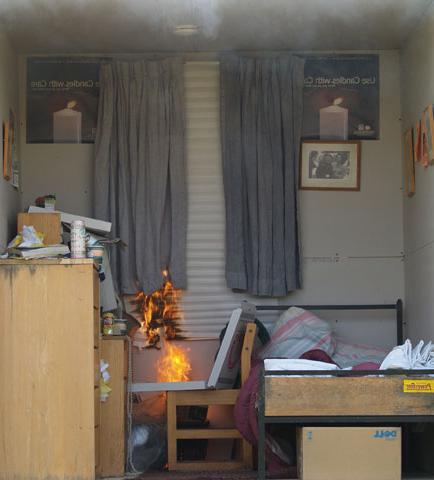fire: (132, 275, 207, 394)
